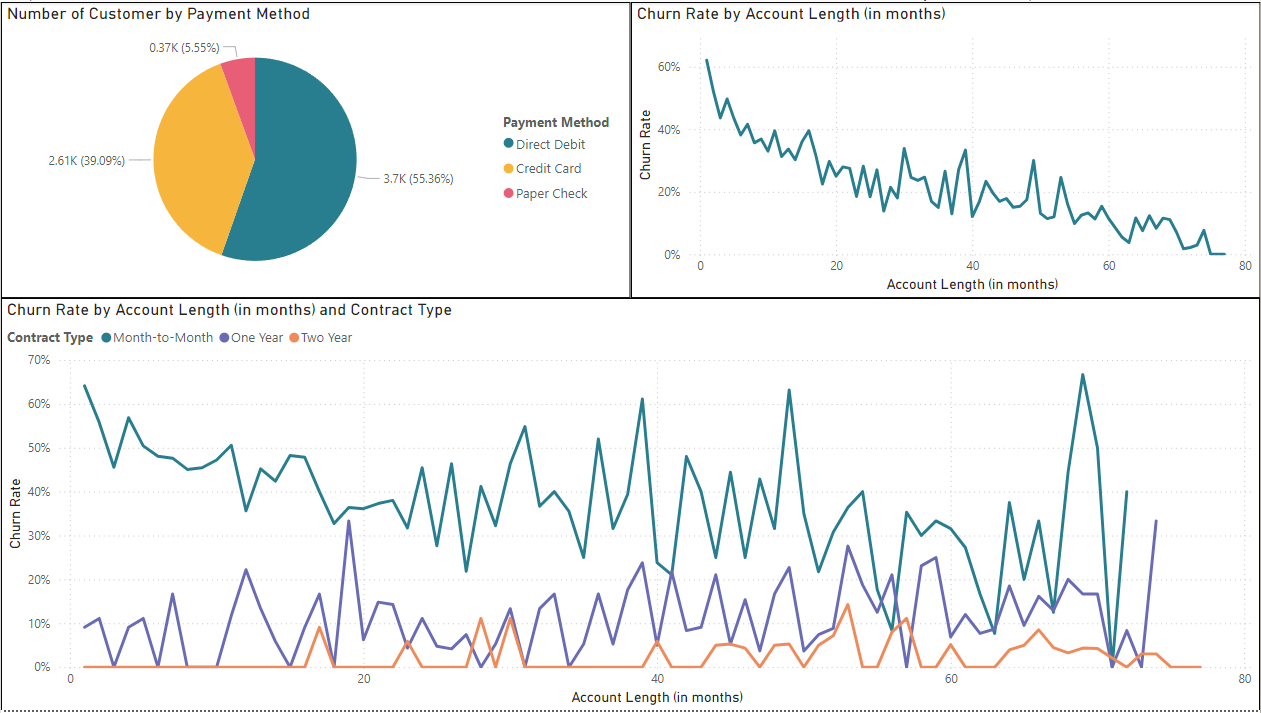

The page's visual inventory and layout, read from the dashboard file:
{"tool":"powerbi","page":{"name":"Contract Type","canvas":[1280,720],"ordinal":4},"visuals":[{"type":"pieChart","title":"Number of Customer by Payment Method","fields":{"Y":["CountNonNull(Databel - Data.Customer ID)"],"Category":["Databel - Data.Payment Method"]},"box":[0,0,640.5,300.8],"z":0},{"type":"lineChart","fields":{"Category":["Databel - Data.Account Length (in months)"],"Y":["Databel - Data.Churn Rate"]},"box":[640.5,0,639.5,300.8],"z":1000},{"type":"lineChart","fields":{"Y":["Databel - Data.Churn Rate"],"Category":["Databel - Data.Account Length (in months)"],"Series":["Databel - Data.Contract Type"]},"box":[0,300.8,1280,419.7],"z":2000}]}

Visuals, with their boxes in screenshot pixels (x1, y1, x2, y2), scaled from the page's 1280x720 canvas onto the 1261x713 screenshot:
"Number of Customer by Payment Method" pieChart: [0,0,631,298]
lineChart - Databel - Data.Account Length (in months) x Databel - Data.Churn Rate: [631,0,1260,298]
lineChart - Databel - Data.Churn Rate x Databel - Data.Account Length (in months): [0,298,1260,712]
